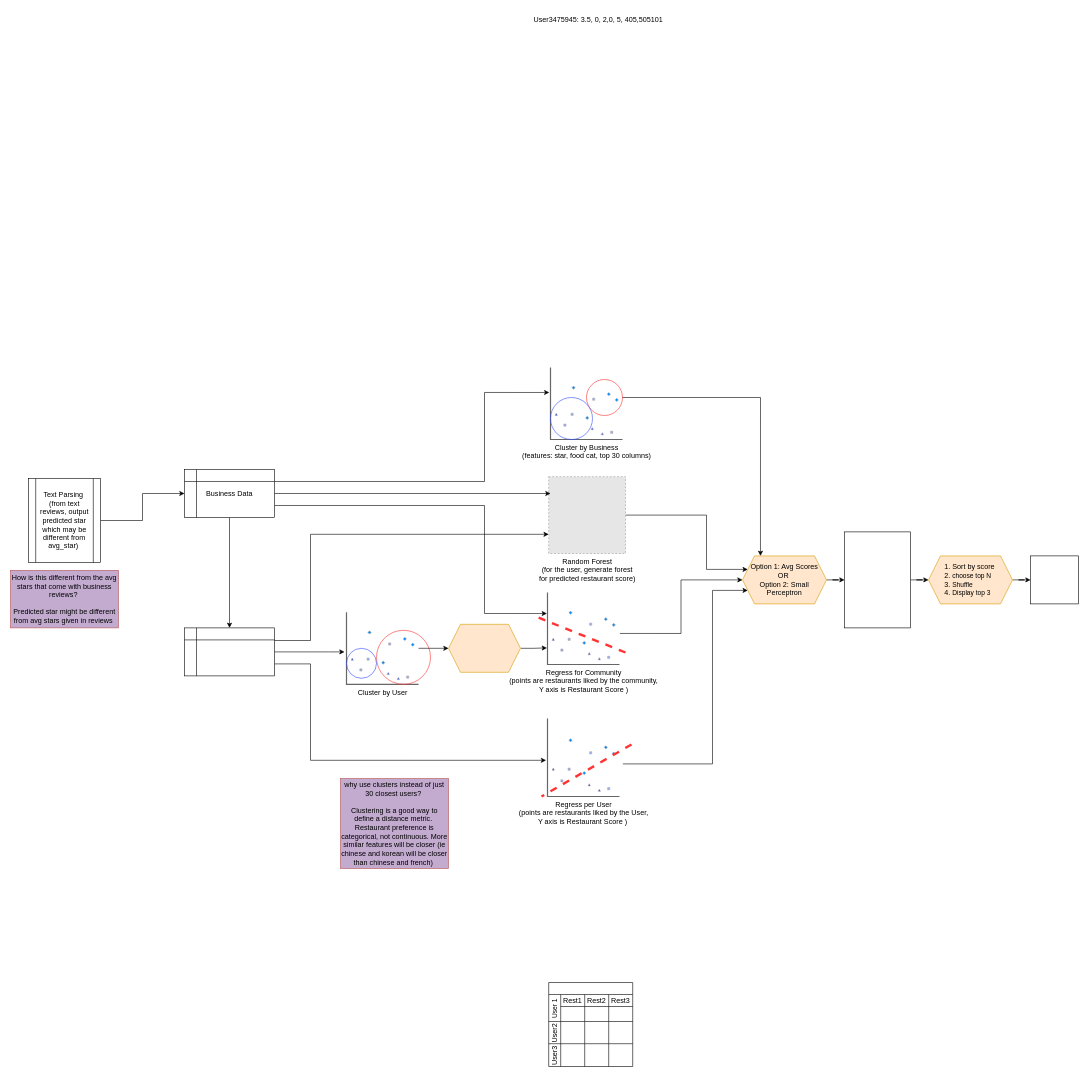
Some shapes in this 1089 by 1077 pixel diagram are drawn without their labels. Grey dashed boxes stand in for pictures. Here are the shapes that lost their labels. From the top down, the box of each, then its label:
(844, 531, 910, 628): Prediction List Restaurant - Score McD - 4.2 BK - 2.3 Subway - 2 Chick - 3.8
(1030, 555, 1078, 604): Suggestions: 1. Rest 2. ...... 3. ......
(184, 627, 274, 676): User Data
(448, 624, 520, 672): define community as cluster of users that target user is part of
(548, 982, 633, 1066): Matrix Factorization?
